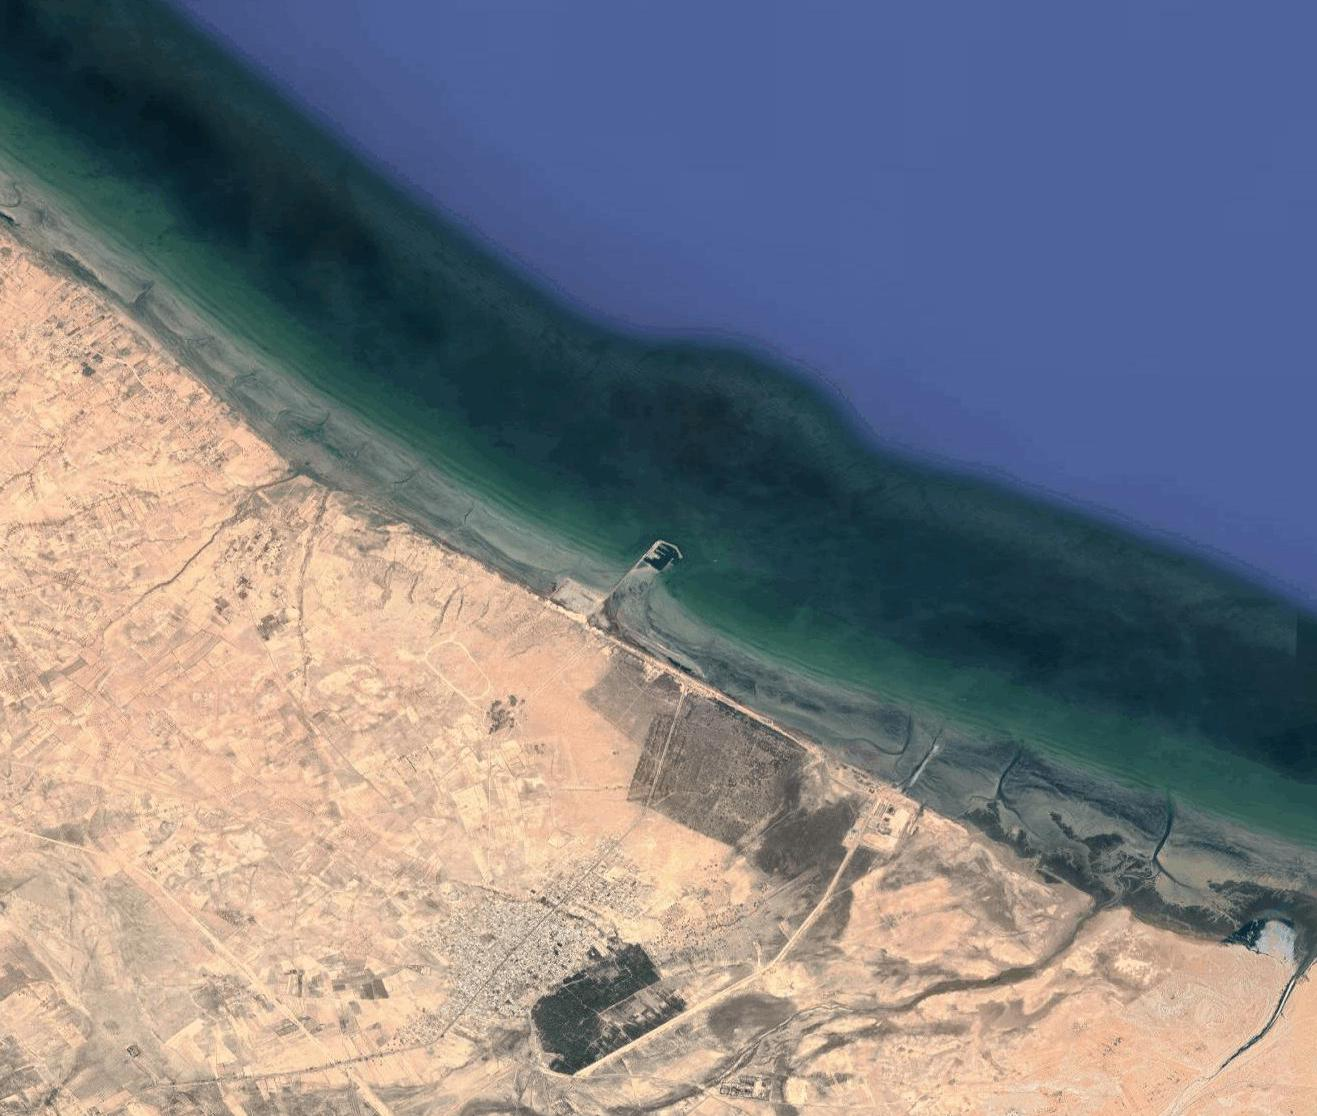harbor: (637, 534, 682, 575)
